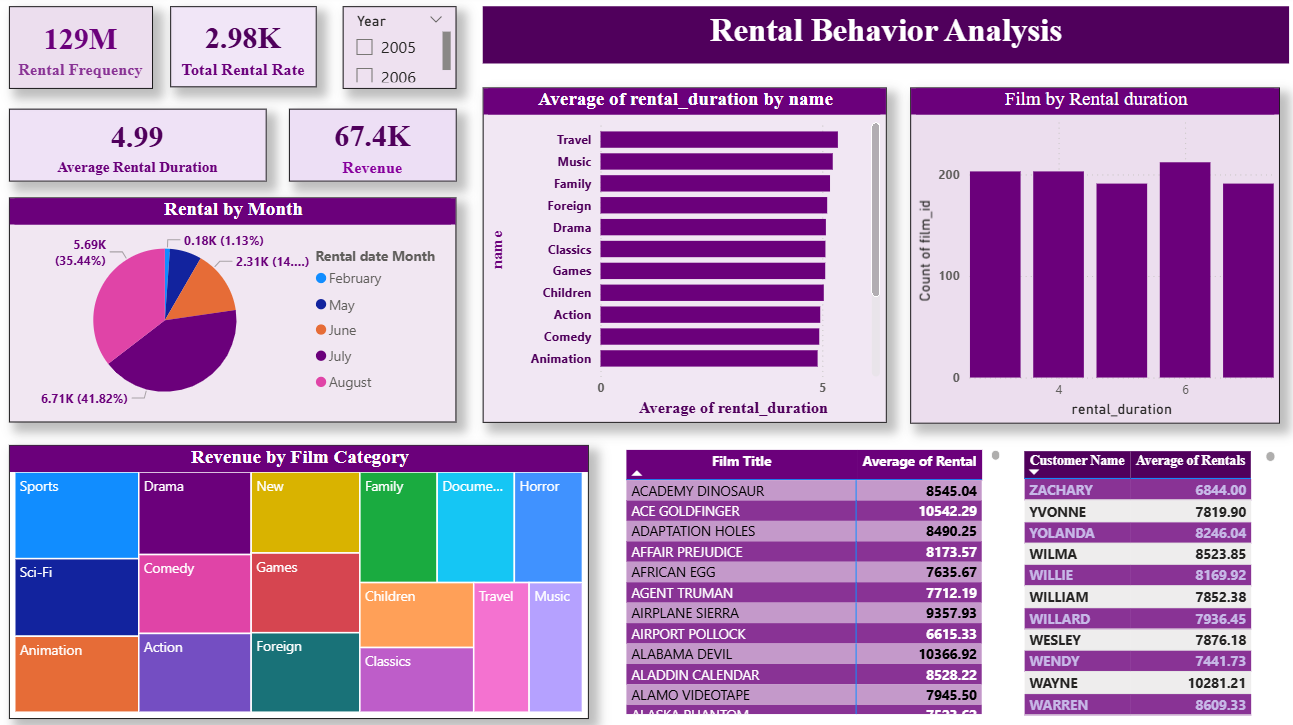

The page's visual inventory and layout, read from the dashboard file:
{"tool":"powerbi","page":{"name":"Rental Analysis","canvas":[1280,720],"ordinal":4},"visuals":[{"type":"slicer","fields":{"Values":["rentat.rental_date.Variation.Date Hierarchy.Year"]},"box":[346.1,11,111.3,80.7],"z":0},{"type":"card","fields":{"Values":["Sum(film.rental_rate)"]},"box":[177.3,11,143.1,79.5],"z":1000},{"type":"card","fields":{"Values":["Sum(payment.payment_id)"]},"box":[19.6,11,140.6,80.7],"z":2000},{"type":"card","fields":{"Values":["Avg(film.rental_duration)"]},"box":[19.6,111.3,251.9,70.9],"z":3000},{"type":"card","fields":{"Values":["payment.Revenue"]},"box":[293.5,111.3,163.9,70.9],"z":4000},{"type":"barChart","fields":{"Y":["Avg(film.rental_duration)"],"Category":["category.name"]},"box":[483,90.5,395,327.7],"z":5000},{"type":"textbox","box":[483,11,788.7,56.3],"z":6000},{"type":"pieChart","title":"Rental by Month","fields":{"Category":["rentat.rental_date.Variation.Date Hierarchy.Month"],"Y":["CountNonNull(rentat.rental_id)"]},"box":[19.6,198.1,437.8,220.1],"z":7000},{"type":"treemap","fields":{"Values":["payment.Revenue"],"Group":["category.name"]},"box":[19.6,440.2,567.4,267.8],"z":8000},{"type":"tableEx","fields":{"Values":["customer.first_name","rentat.rental_id"]},"box":[1006.4,441.4,256.8,267.8],"z":9000},{"type":"pivotTable","fields":{"Rows":["film.title"],"Values":["Avg(rentat.rental_id)"]},"box":[618.8,440.2,375.4,267.8],"z":10000},{"type":"columnChart","title":"Film by Rental duration","fields":{"Category":["film.rental_duration"],"Y":["CountNonNull(film.film_id)"]},"box":[901.2,90.5,362,328.9],"z":11000}]}

Visuals, with their boxes in screenshot pixels (x1, y1, x2, y2), scaled from the page's 1280x720 canvas onto the 1293x725 screenshot:
slicer - rentat.rental_date.Variation.Date Hierarchy.Year: [350,11,462,92]
card - Sum(film.rental_rate): [179,11,324,91]
card - Sum(payment.payment_id): [20,11,162,92]
card - Avg(film.rental_duration): [20,112,274,183]
card - payment.Revenue: [296,112,462,183]
barChart - Avg(film.rental_duration) x category.name: [488,91,887,421]
textbox: [488,11,1285,68]
"Rental by Month" pieChart: [20,199,462,421]
treemap - payment.Revenue x category.name: [20,443,593,713]
tableEx - customer.first_name x rentat.rental_id: [1017,444,1276,714]
pivotTable - film.title x Avg(rentat.rental_id): [625,443,1004,713]
"Film by Rental duration" columnChart: [910,91,1276,422]
